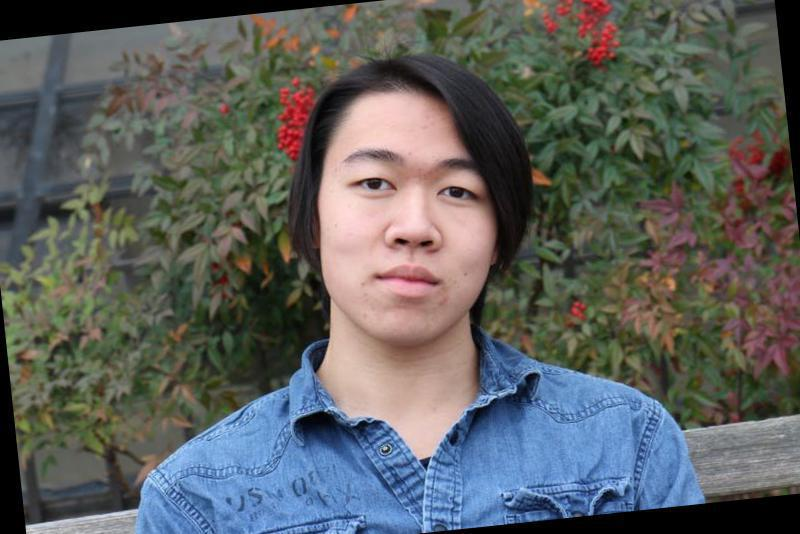Sober: (325, 108, 490, 349)
